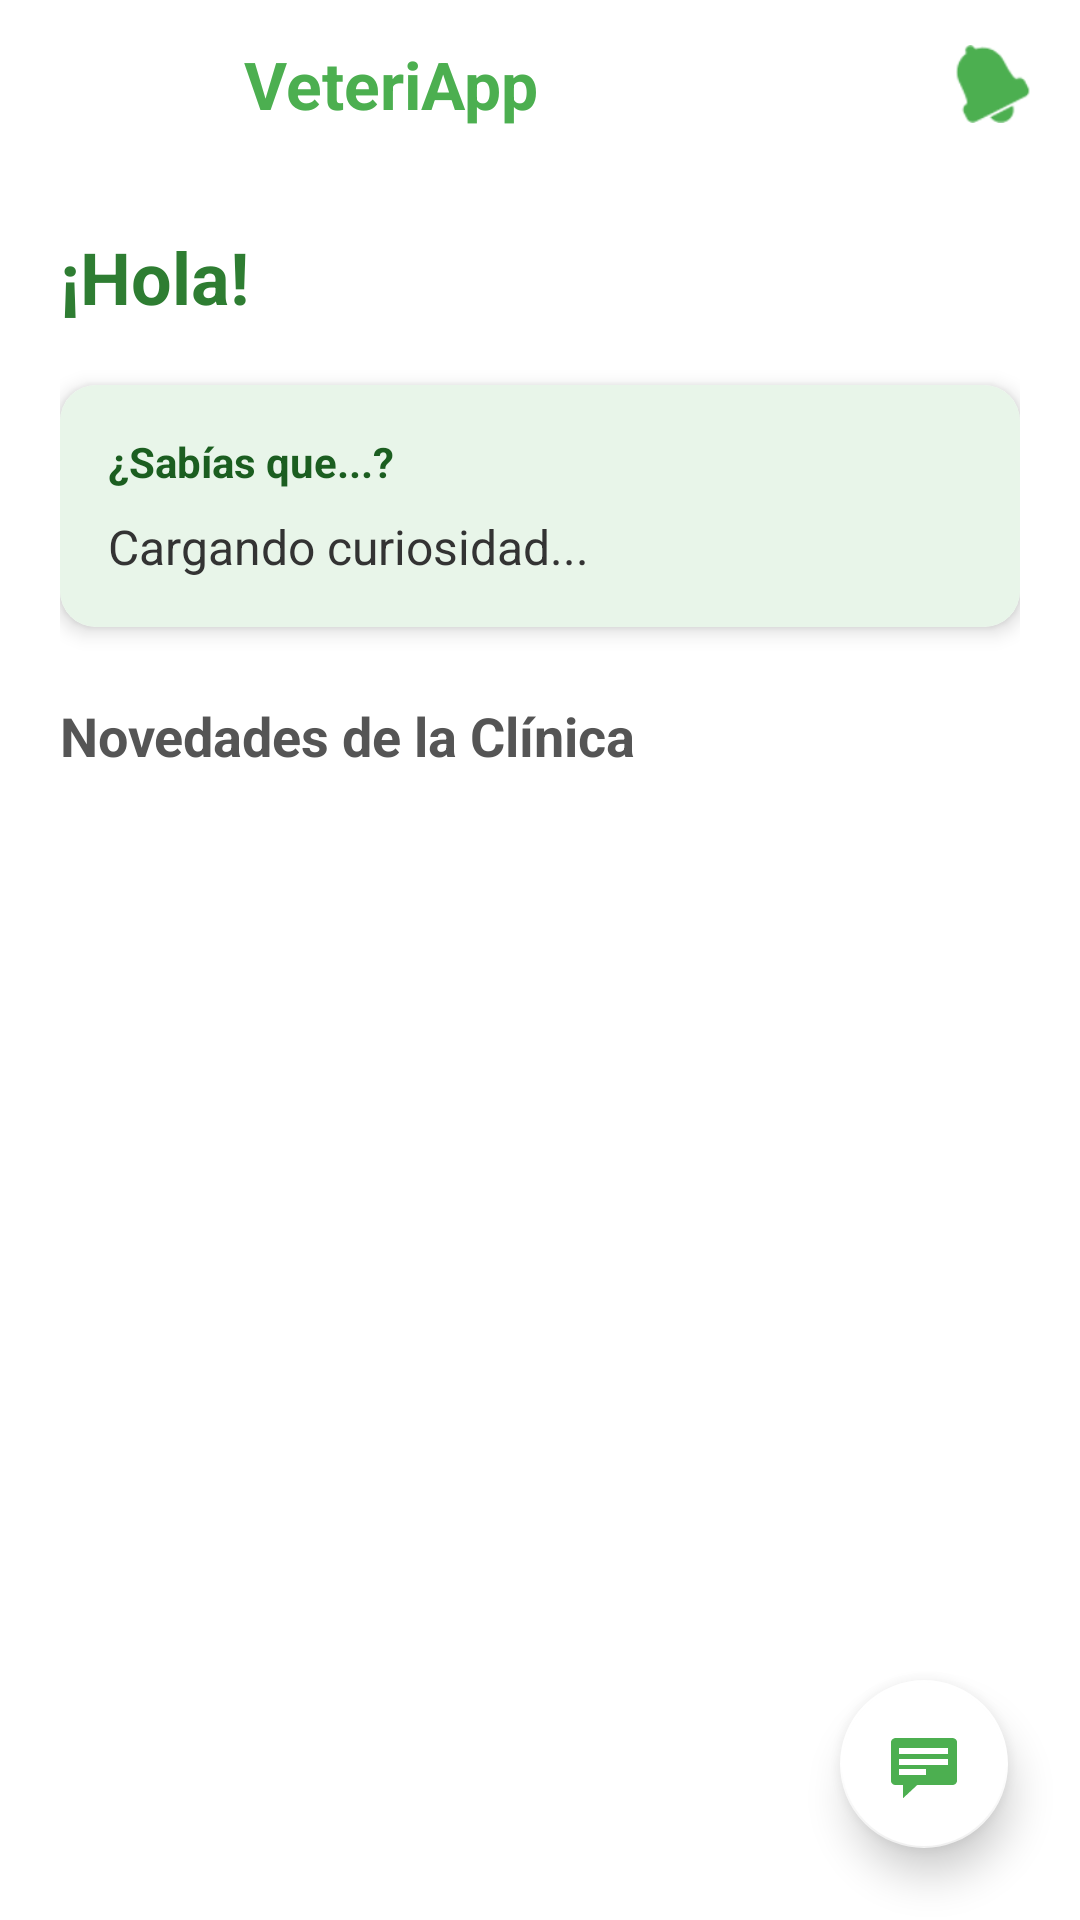

Point at icon controls on the screen. Image size 1080w x 1920h, points as (x=x, y=y).
chat: (x=924, y=1768)
popup reminder: (x=993, y=84)
